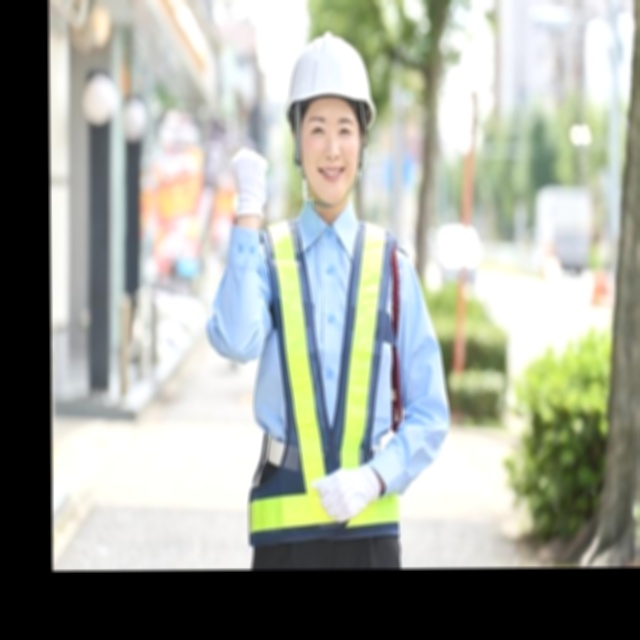Con_Casco: (284, 31, 376, 195)
Con_Chaleco: (243, 211, 397, 538)
